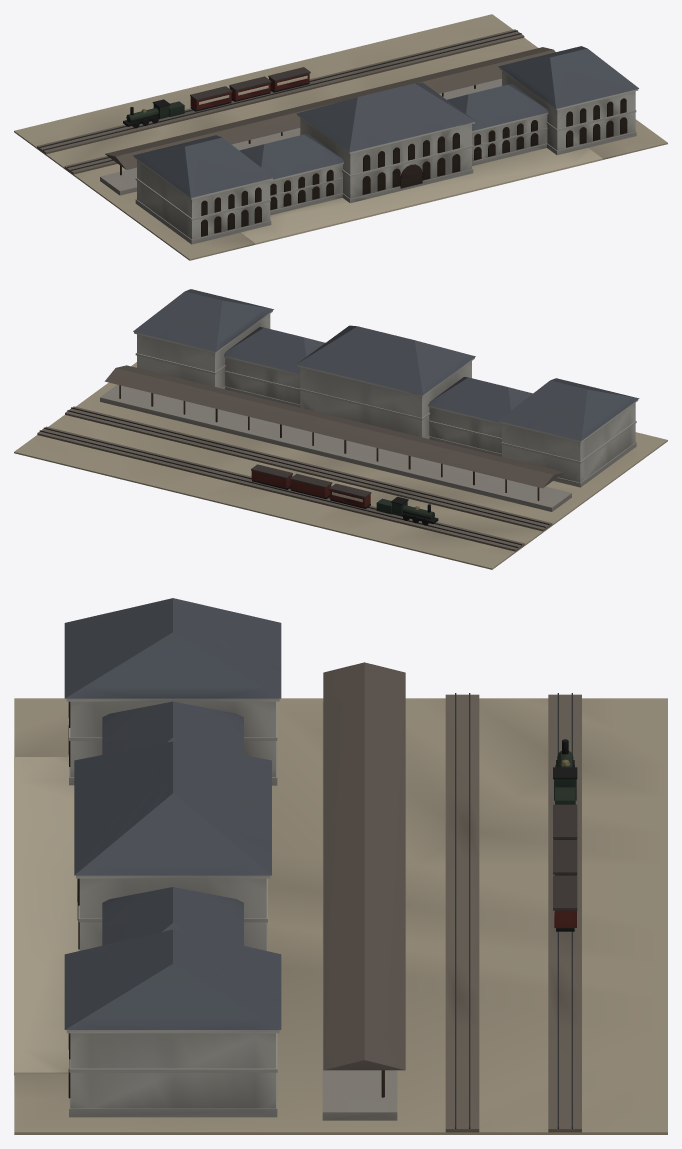
Rendered from shimbashi-station.glb.
3 renders of one model, top to bottom at view 1: azimuth 30°, elevation 25°; view 2: azimuth 150°, elevation 25°; view 3: azimuth 270°, elevation 25°, orthographic. The views are drawn at different scales.
Parts seen in each view (by area): view 1: p1_station, p0_ground, p2_platform, p3_train; view 2: p1_station, p0_ground, p2_platform, p3_train; view 3: p0_ground, p1_station, p2_platform, p3_train.
Boxes of the visible parts, bbox=[...] form: p1_station: bbox=[100, 46, 638, 244]; p0_ground: bbox=[14, 14, 667, 260]; p2_platform: bbox=[37, 29, 555, 175]; p3_train: bbox=[123, 67, 310, 128]; p1_station: bbox=[100, 289, 639, 511]; p0_ground: bbox=[14, 362, 667, 569]; p2_platform: bbox=[37, 365, 564, 551]; p3_train: bbox=[251, 464, 438, 525]; p0_ground: bbox=[14, 698, 667, 1134]; p1_station: bbox=[64, 598, 397, 1120]; p2_platform: bbox=[323, 662, 581, 1132]; p3_train: bbox=[553, 739, 577, 931].
Size of the model in its own units: 110 by 17.8 by 70.04.
